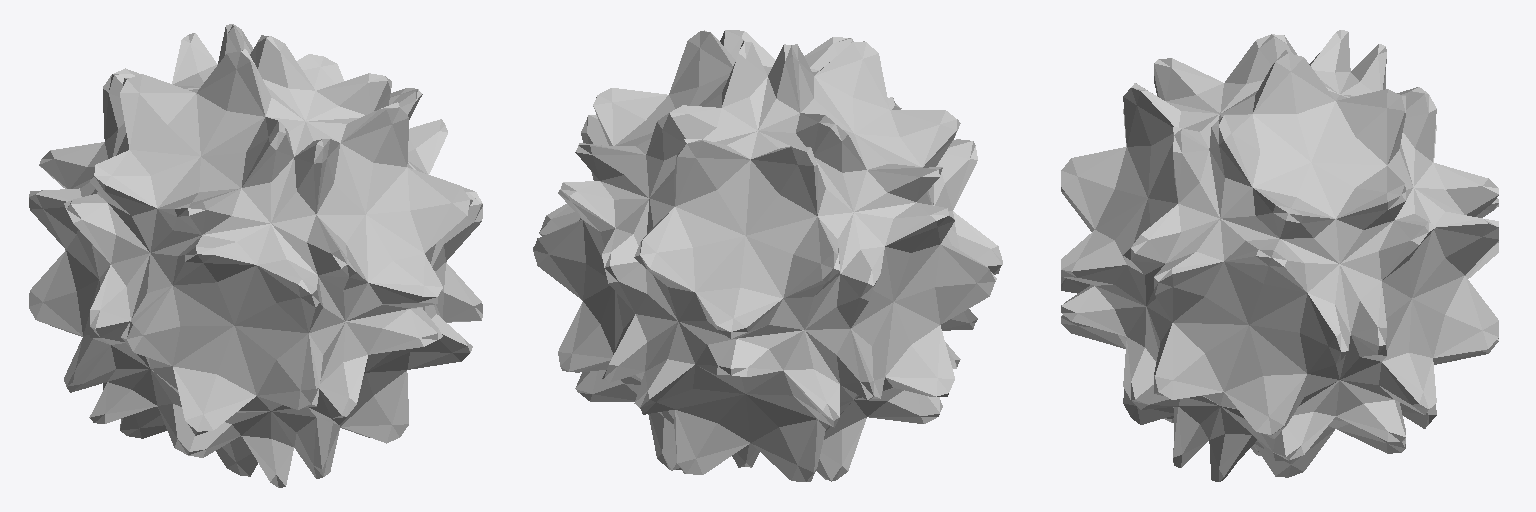
File: testnc.obj
The picture shows the model from 3 angles: view 1: azimuth 30°, elevation 25°; view 2: azimuth 150°, elevation 25°; view 3: azimuth 270°, elevation 25°; orthographic projection.
Visible parts, largest first — view 1: 0; view 2: 0; view 3: 0.
Part boxes in pixels (bbox=[...]): 0: bbox=[29, 24, 482, 487]; 0: bbox=[533, 30, 1002, 481]; 0: bbox=[1061, 30, 1498, 481].
Size of the model in its own units: 610 by 630 by 588.